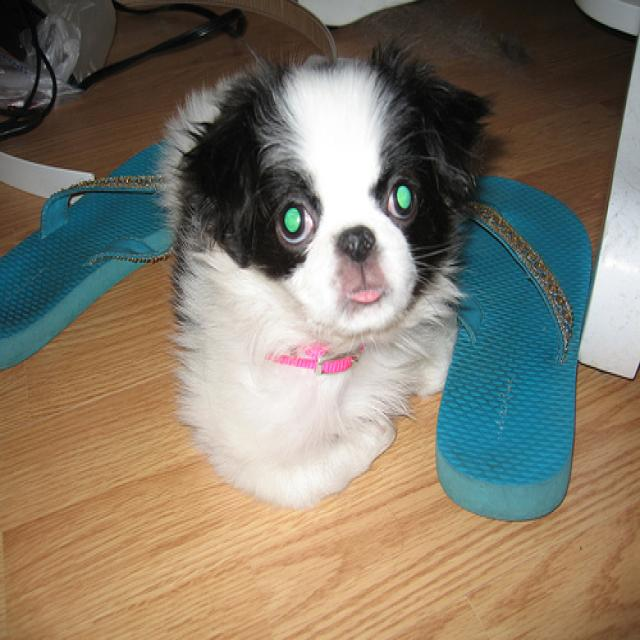dog-japanese_chin: (150, 32, 502, 526)
